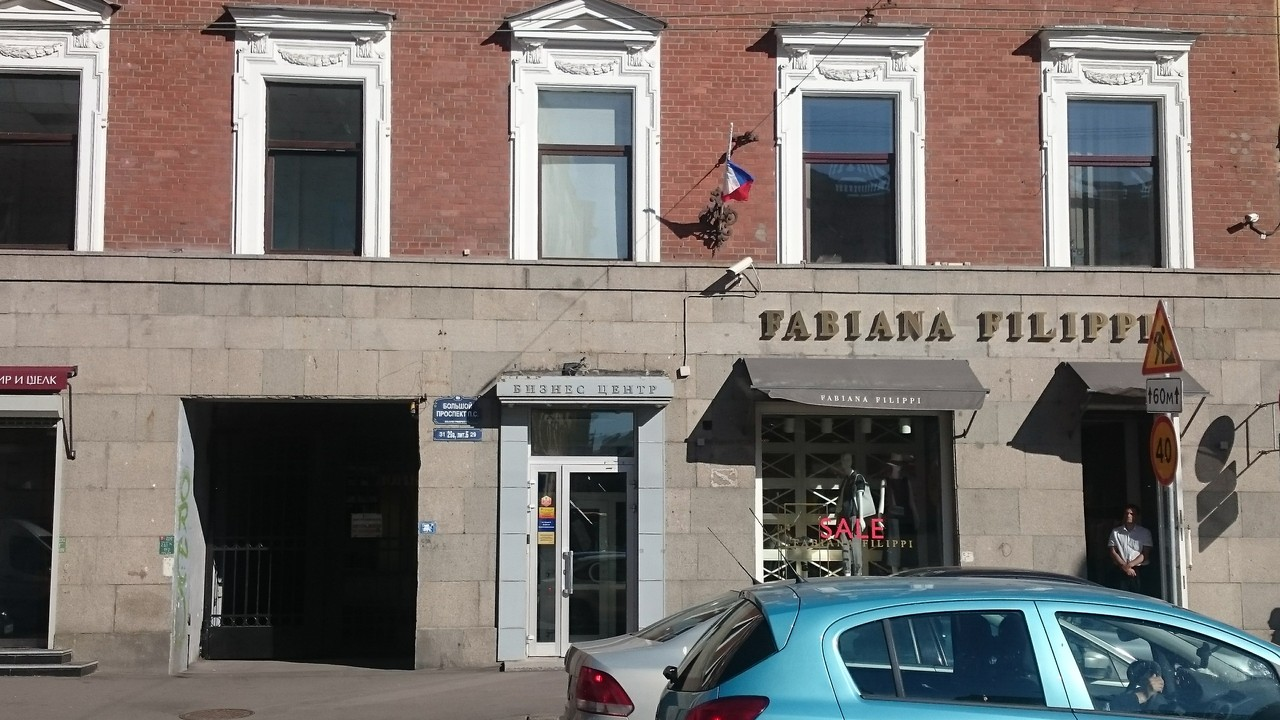arch: (177, 393, 420, 672)
door: (558, 467, 633, 660)
signboard: (764, 311, 1157, 341)
window: (760, 407, 949, 577), (1066, 96, 1165, 268), (802, 94, 896, 259), (267, 82, 358, 251), (538, 87, 628, 257), (529, 411, 637, 459)
